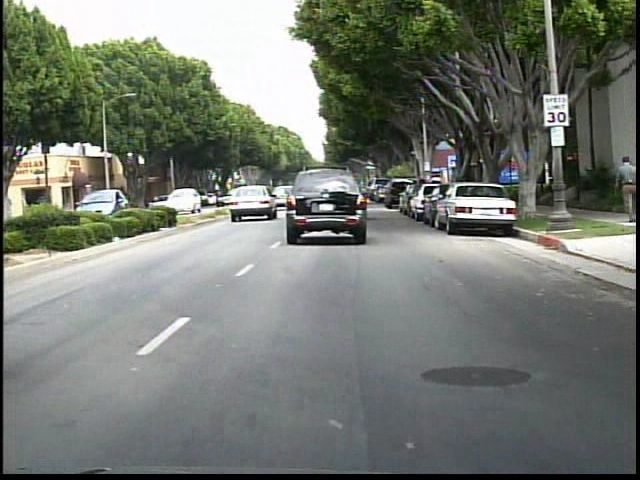person: (611, 154, 637, 227)
